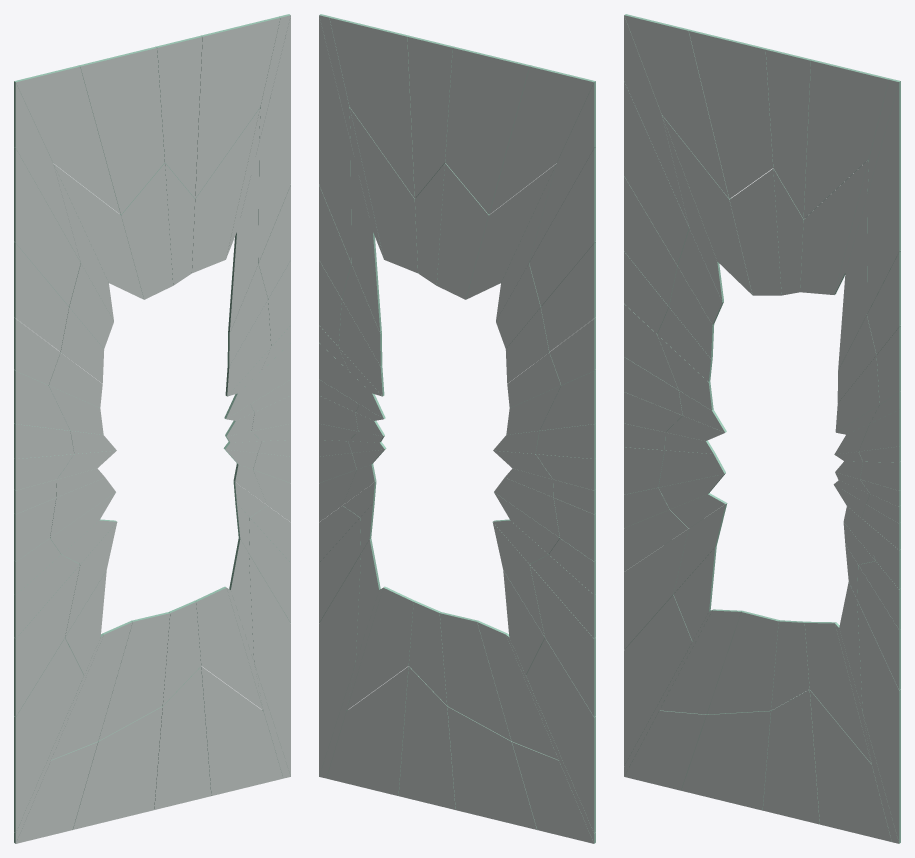
File: DoorGlass_Left_Broken.obj
3 views of the same model, side by side, from view 1: azimuth 30°, elevation 25°; view 2: azimuth 150°, elevation 25°; view 3: azimuth 330°, elevation 25° (orthographic).
Visible parts, largest first — view 1: DoorGlass_Left_Broken; view 2: DoorGlass_Left_Broken; view 3: DoorGlass_Left_Broken.
Part boxes in pixels (x1,y1,x2,y2): DoorGlass_Left_Broken: [14, 14, 290, 843]; DoorGlass_Left_Broken: [319, 14, 595, 843]; DoorGlass_Left_Broken: [624, 14, 900, 843].
Bounding box in the file's own units: 0.7747 × 2.05 × 0.008.
